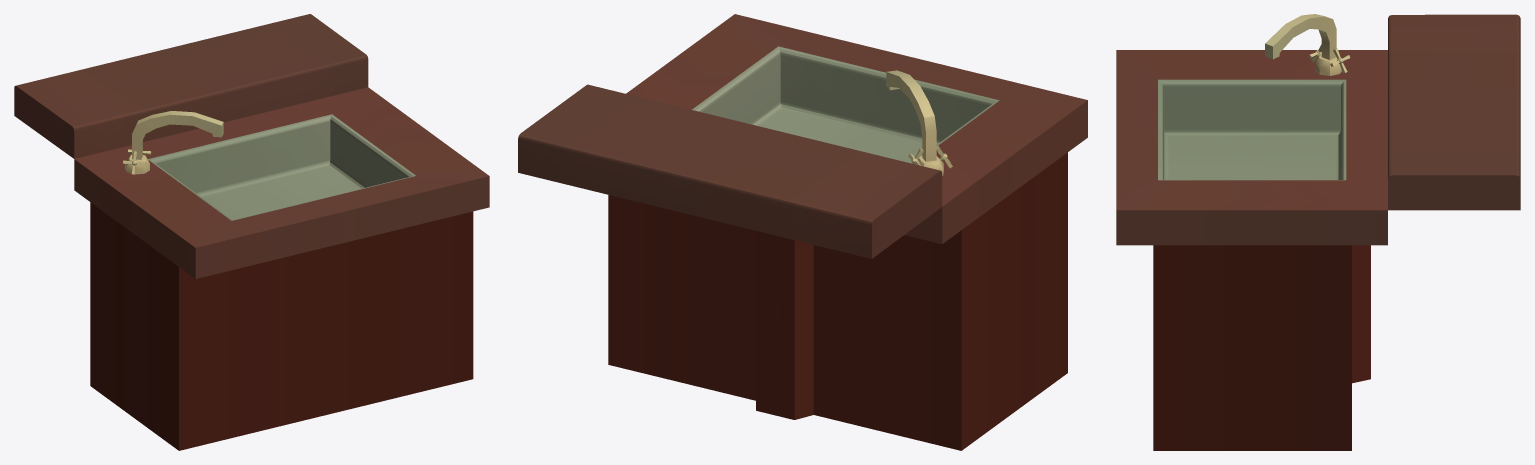
Rendered from barTable_part1_sink.fbx.
The picture shows the model from 3 angles, left to right: view 1: azimuth 30°, elevation 25°; view 2: azimuth 150°, elevation 25°; view 3: azimuth 270°, elevation 25°; orthographic projection. The views are drawn at different scales.
Parts seen in each view (by area): view 1: bartTable_part1_sink, clientTable_part1_sink, vodokran; view 2: bartTable_part1_sink, clientTable_part1_sink, vodokran; view 3: bartTable_part1_sink, clientTable_part1_sink, vodokran.
Part boxes in pixels (x1,y1,x2,y2): bartTable_part1_sink: [74, 87, 489, 450]; clientTable_part1_sink: [14, 14, 368, 158]; vodokran: [123, 111, 223, 174]; bartTable_part1_sink: [608, 14, 1087, 450]; clientTable_part1_sink: [518, 84, 942, 258]; vodokran: [886, 70, 952, 175]; bartTable_part1_sink: [1116, 50, 1387, 450]; clientTable_part1_sink: [1388, 14, 1520, 210]; vodokran: [1265, 14, 1350, 75].
Size of the model in its own units: 8.26 by 7.33 by 8.77.
Materials: 1 (1 with a texture image).
